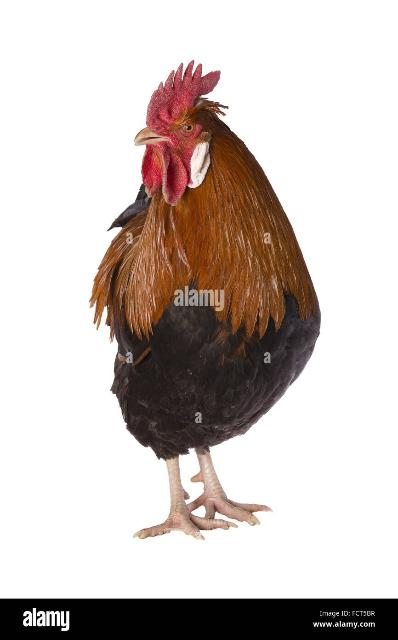Chicken: (87, 62, 322, 538)
